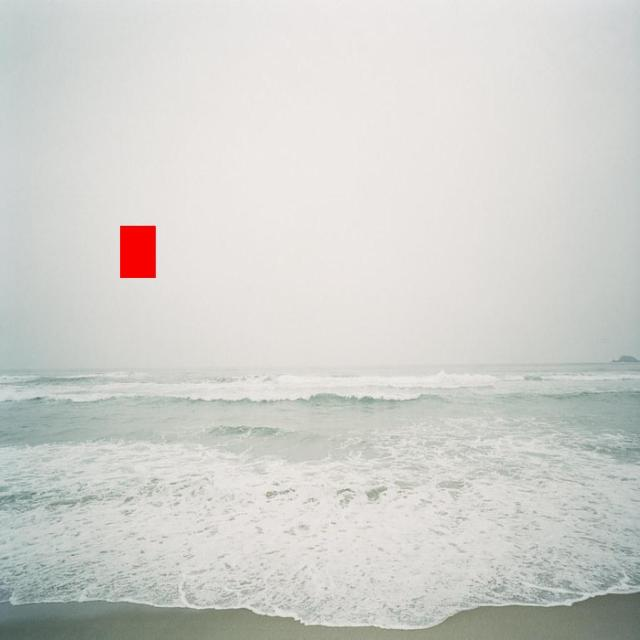RedSquare: (116, 219, 160, 286)
